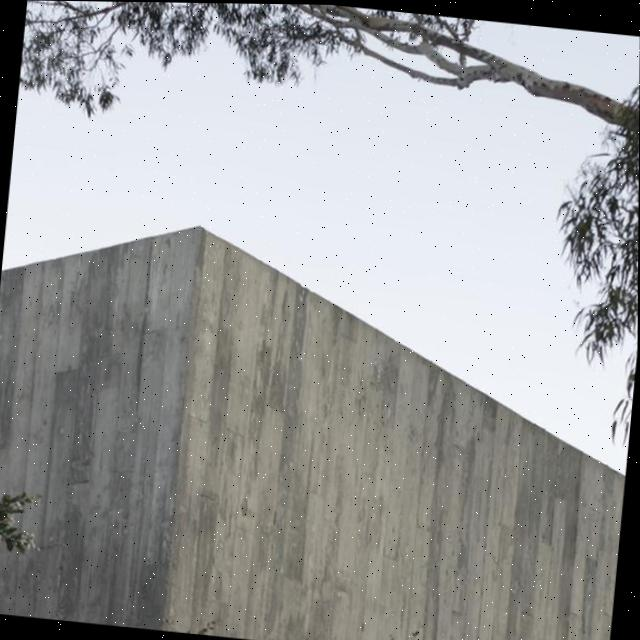building: (0, 203, 638, 640)
